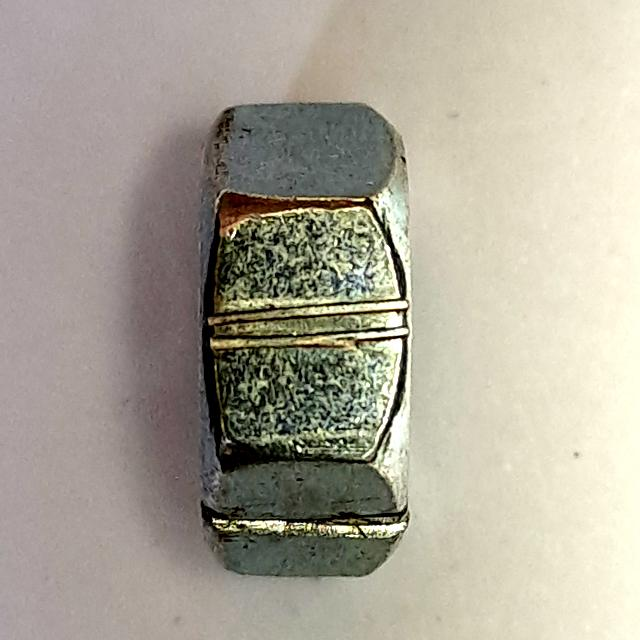Side_Scratches: (186, 85, 426, 596)
